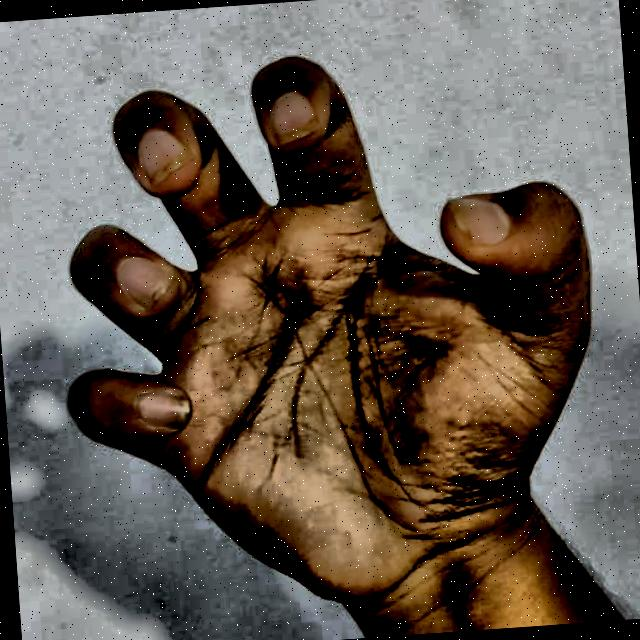Ja: (17, 12, 632, 640)
